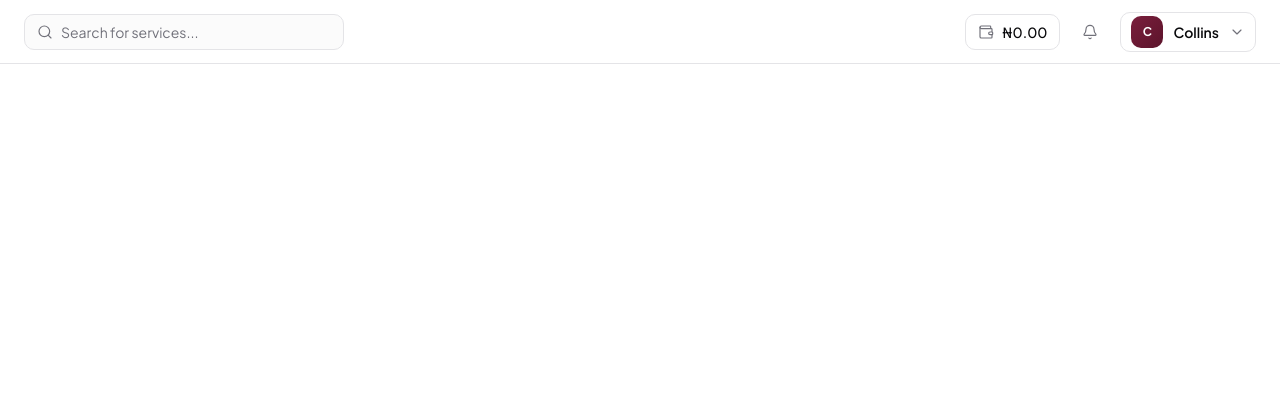
Test case: Topbar Component (F5.3) › shows loading state and prevents duplicate calls while isLoggingOut is true
Later steps or results of the test are not shown.
Click the button with aria-label "user menu": (1188, 32) x1=1120 y1=12 x2=1256 y2=52
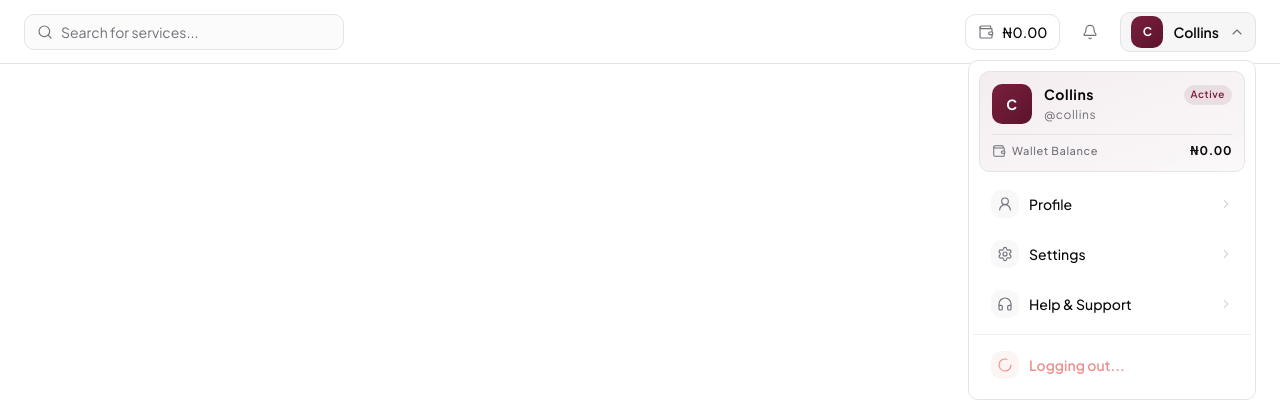
Now the text "@collins" is shown, box x1=1044 y1=107 x2=1096 y2=122
